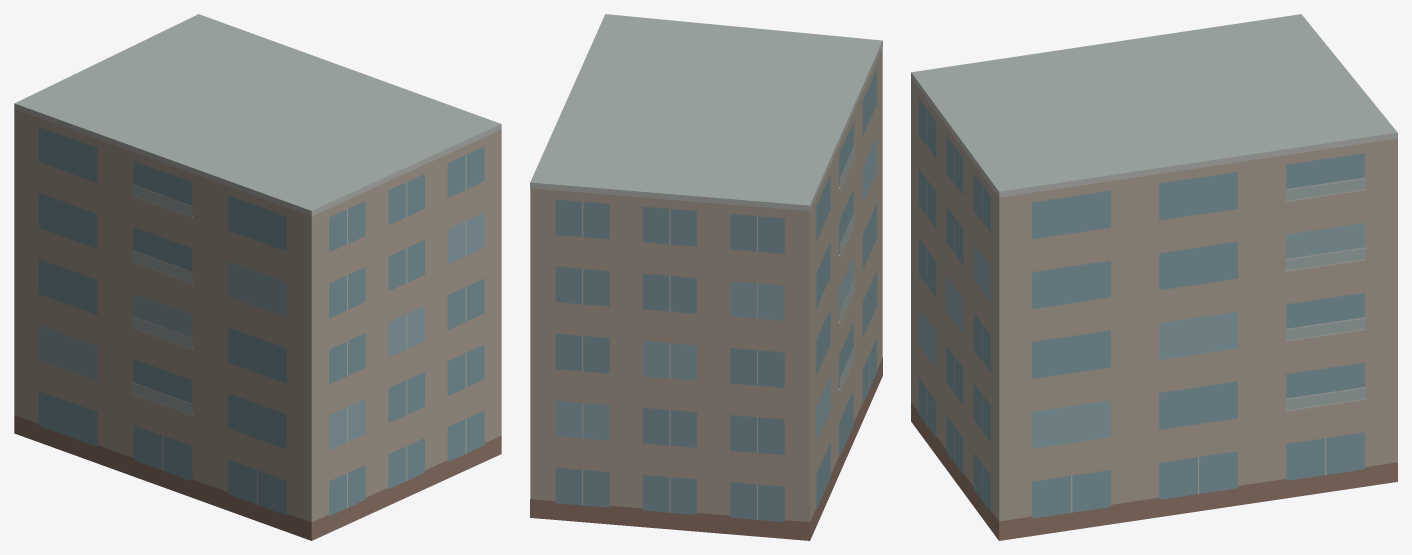
The model's file is survey-upis-32765388.glb.
3 renders of one model, left to right at view 1: azimuth 30°, elevation 25°; view 2: azimuth 150°, elevation 25°; view 3: azimuth 270°, elevation 25°, orthographic. The views are drawn at different scales.
Parts seen in each view (by area): view 1: survey-upis-32765388.tmp; view 2: survey-upis-32765388.tmp; view 3: survey-upis-32765388.tmp.
Part boxes in pixels (<box>): survey-upis-32765388.tmp: <box>14,14,501,540</box>; survey-upis-32765388.tmp: <box>530,14,882,540</box>; survey-upis-32765388.tmp: <box>911,14,1397,540</box>.
Bounding box in the file's own units: 15.89 × 14.54 × 18.38.
